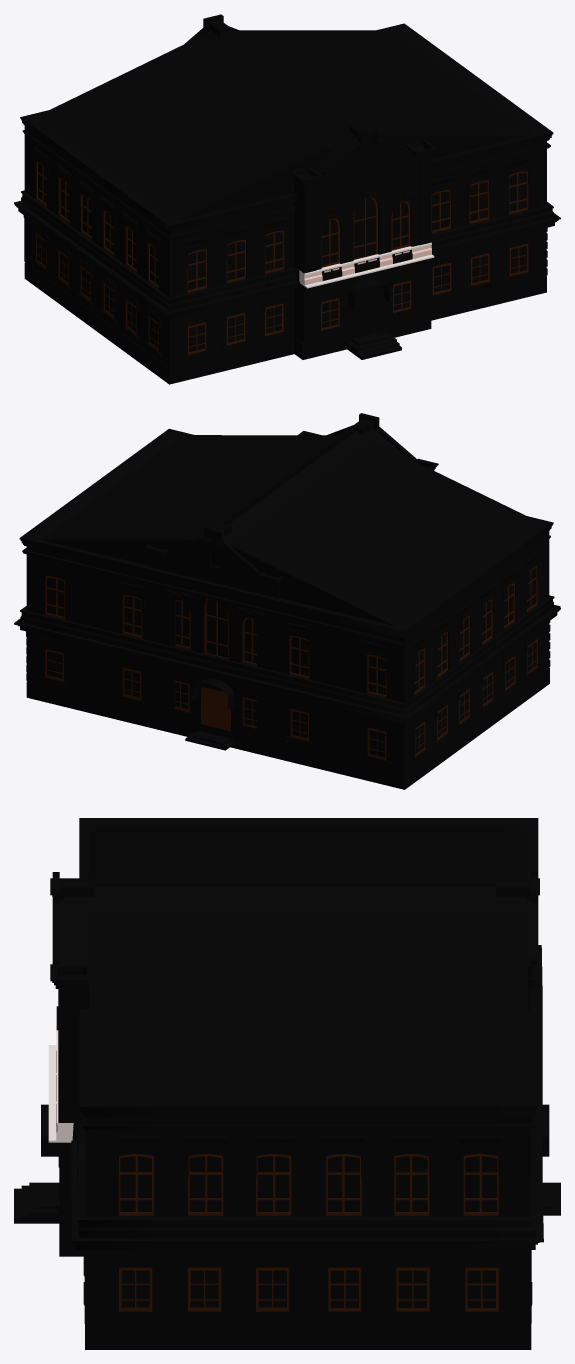
The model's file is Church.FBX.
3 renders of one model, top to bottom at view 1: azimuth 30°, elevation 25°; view 2: azimuth 150°, elevation 25°; view 3: azimuth 270°, elevation 25°, orthographic. The views are drawn at different scales.
Visible parts, largest first — view 1: Loft09; view 2: Loft09; view 3: Loft09.
Part boxes in pixels (x1=…): Loft09: x1=14, y1=14, x2=560, y2=384; Loft09: x1=14, y1=413, x2=560, y2=789; Loft09: x1=14, y1=818, x2=560, y2=1349.
Size of the model in its own units: 405 by 210 by 315.
